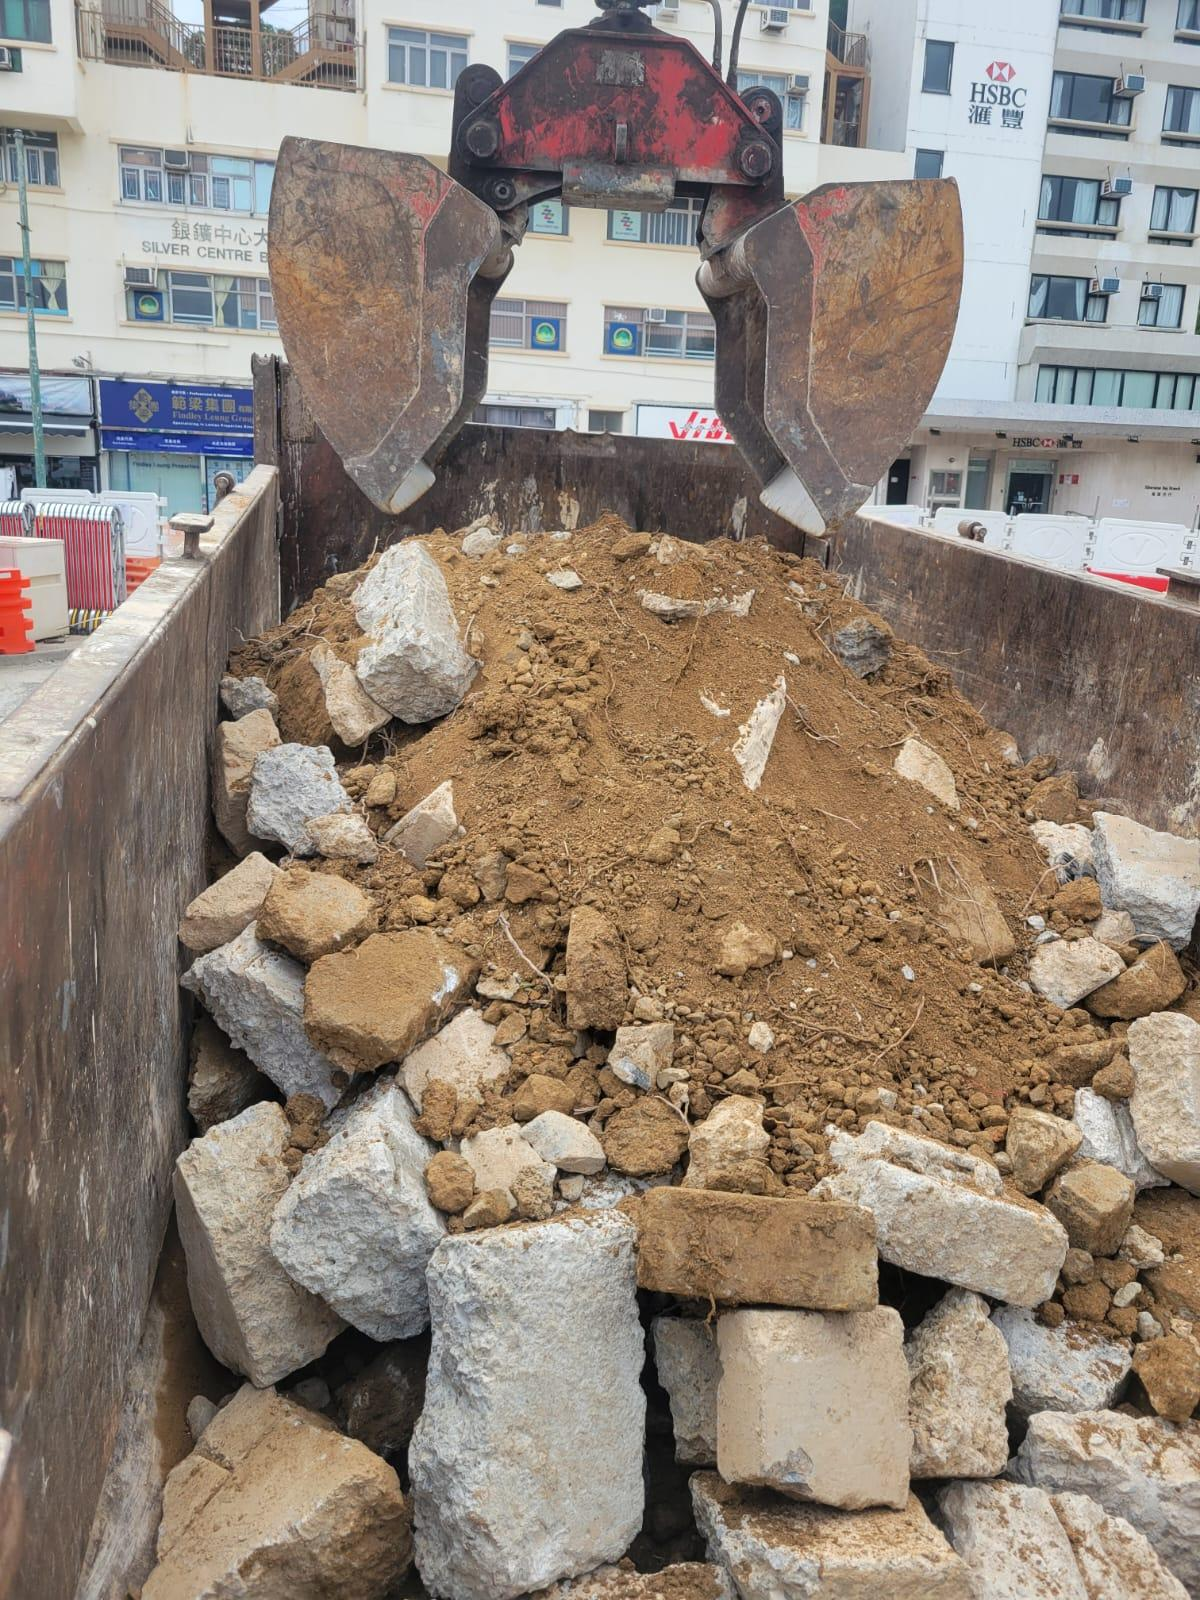dry: (224, 528, 1180, 1557)
